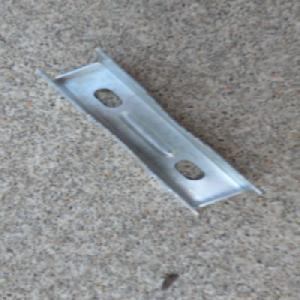ClampPart: (31, 46, 265, 220)
